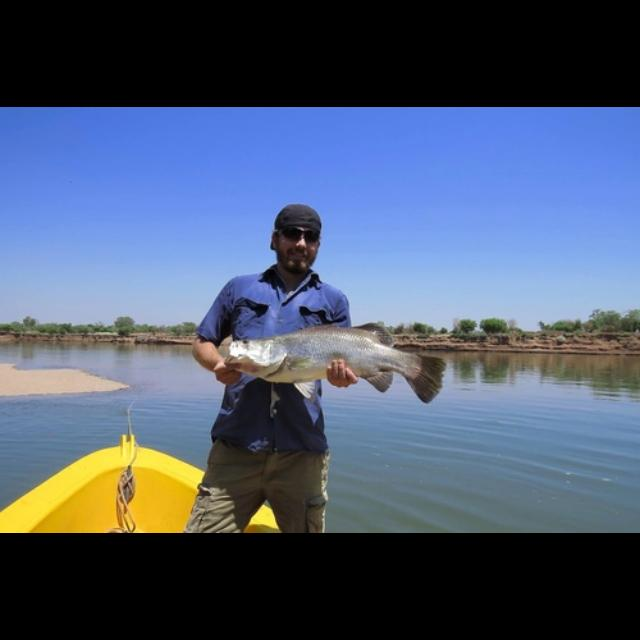Seabass: (222, 321, 446, 403)
